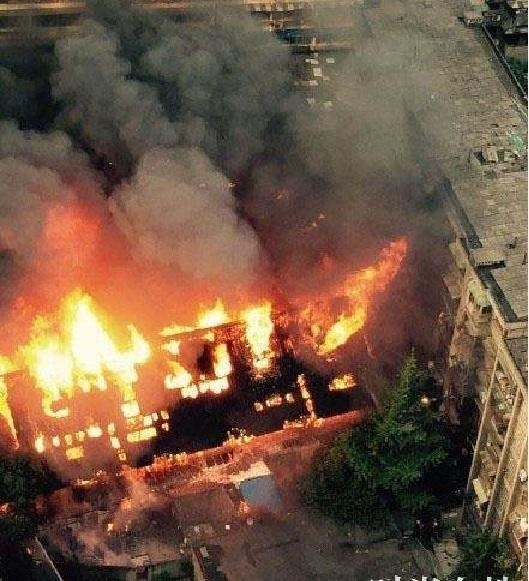fire: (10, 272, 367, 458)
